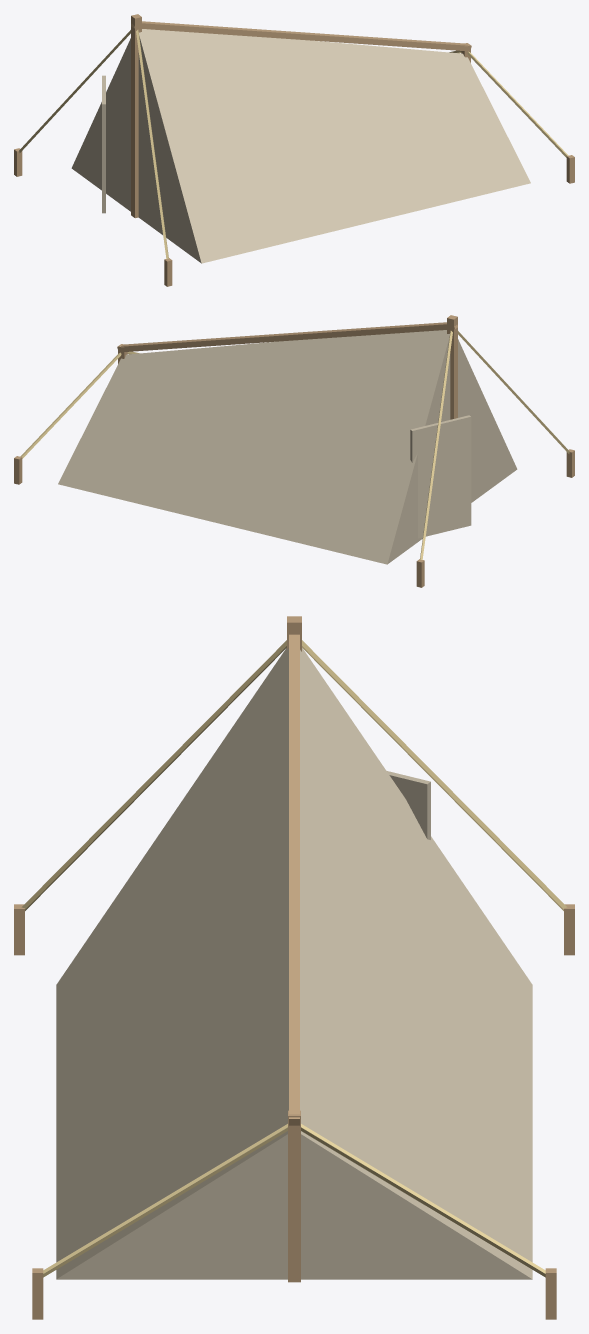
The model's file is prop-tent-wedge.fbx.
The picture shows the model from 3 angles, top to bottom: view 1: azimuth 30°, elevation 25°; view 2: azimuth 150°, elevation 25°; view 3: azimuth 270°, elevation 25°; orthographic projection. The views are drawn at different scales.
Visible parts, largest first — view 1: prop-tent-wedge; view 2: prop-tent-wedge; view 3: prop-tent-wedge.
Boxes of the visible parts, x1=… form: prop-tent-wedge: x1=14, y1=14, x2=574, y2=286; prop-tent-wedge: x1=14, y1=315, x2=574, y2=587; prop-tent-wedge: x1=14, y1=616, x2=574, y2=1319.
Bounding box in the file's own units: 2.38 × 1.12 × 1.53.
